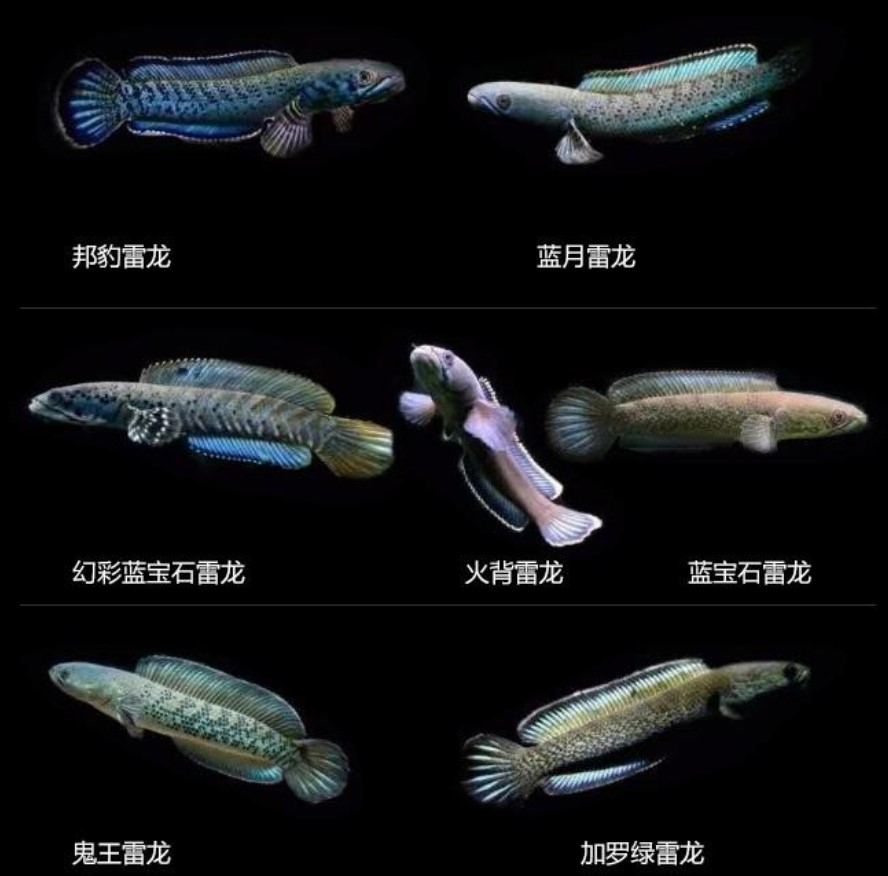Fish: (428, 627, 838, 820), (39, 621, 364, 816), (14, 337, 401, 498), (396, 325, 607, 589), (538, 326, 887, 483), (458, 42, 814, 194), (54, 31, 408, 171)
